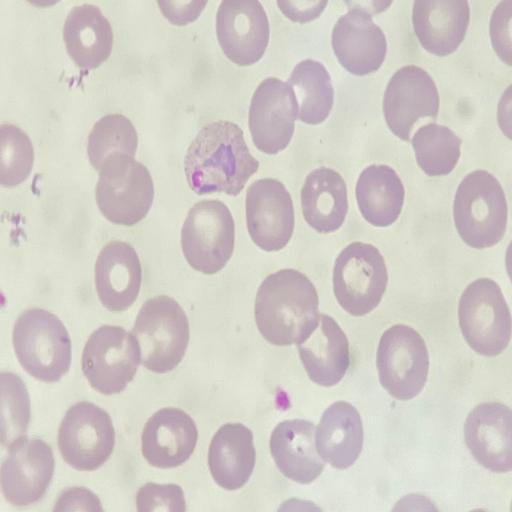Infected: (184, 120, 258, 195)
Uninfected: (253, 270, 320, 347), (11, 308, 71, 382), (132, 297, 189, 373), (452, 170, 507, 248), (383, 66, 440, 140), (456, 279, 510, 356), (333, 244, 389, 317), (95, 156, 153, 225), (376, 325, 429, 400), (180, 201, 235, 273), (81, 325, 139, 393), (296, 313, 349, 386), (58, 402, 114, 469), (250, 75, 298, 153), (244, 179, 294, 251), (270, 419, 326, 482), (332, 11, 388, 73), (94, 243, 144, 312), (142, 407, 198, 468), (315, 400, 365, 468), (216, 1, 269, 64), (463, 402, 512, 470), (0, 440, 52, 504), (354, 163, 405, 226), (206, 423, 255, 488), (300, 168, 348, 233), (63, 6, 113, 68), (287, 59, 333, 125), (413, 0, 468, 54), (410, 121, 462, 176), (88, 113, 139, 168), (0, 124, 34, 185)
